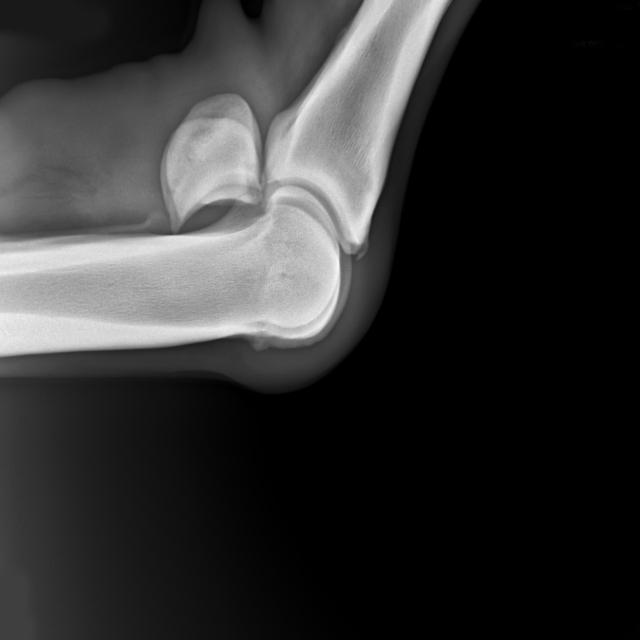joint-ht8A: (142, 30, 396, 399)
